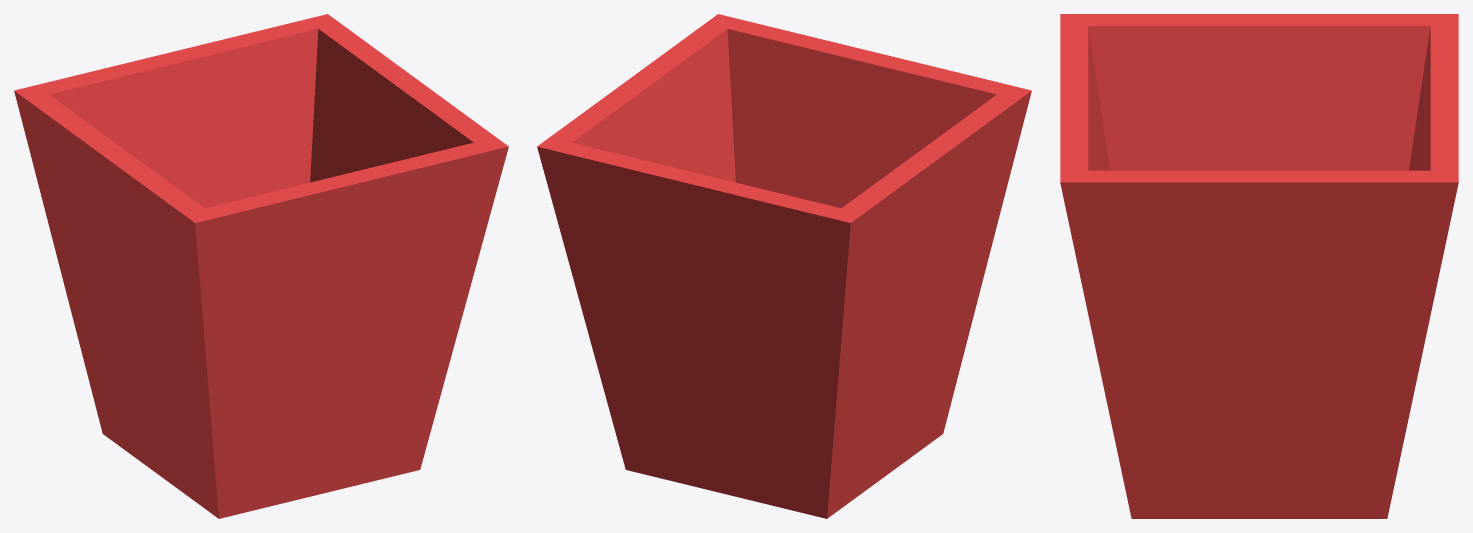
Rendered from SM_GarbageCan.fbx.
The picture shows the model from 3 angles, left to right: view 1: azimuth 30°, elevation 25°; view 2: azimuth 150°, elevation 25°; view 3: azimuth 270°, elevation 25°; orthographic projection. The views are drawn at different scales.
Visible parts, largest first — view 1: SM_GarbageCan; view 2: SM_GarbageCan; view 3: SM_GarbageCan.
Boxes of the visible parts, left/top/right/bottom form: SM_GarbageCan: left=14, top=14, right=508, bottom=518; SM_GarbageCan: left=537, top=14, right=1031, bottom=518; SM_GarbageCan: left=1060, top=14, right=1458, bottom=518.
Size of the model in its own units: 37.44 by 38 by 37.44.
